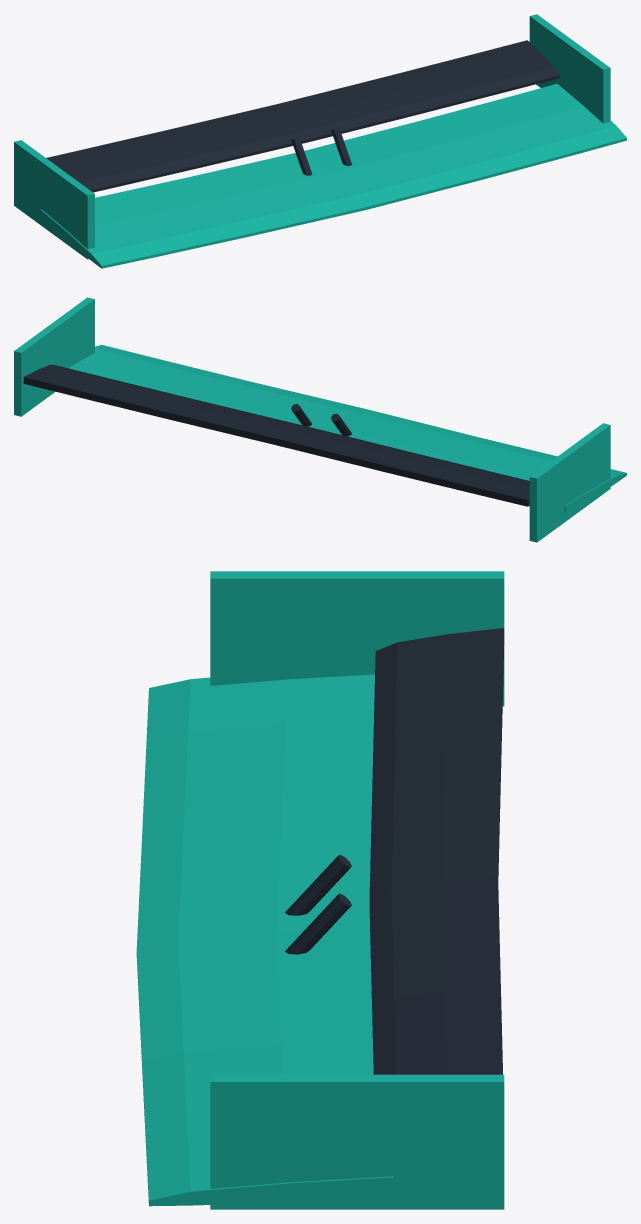
File: sweep.glb
3 renders of one model, top to bottom at view 1: azimuth 30°, elevation 25°; view 2: azimuth 150°, elevation 25°; view 3: azimuth 270°, elevation 25°, orthographic. The views are drawn at different scales.
Parts seen in each view (by area): view 1: FrontWing; view 2: FrontWing; view 3: FrontWing.
Boxes of the visible parts, x1,y1,x2,y2 form: FrontWing: (14, 14, 626, 268); FrontWing: (14, 297, 626, 542); FrontWing: (136, 571, 504, 1209).
Size of the model in its own units: 1.98 by 0.232 by 0.6.
